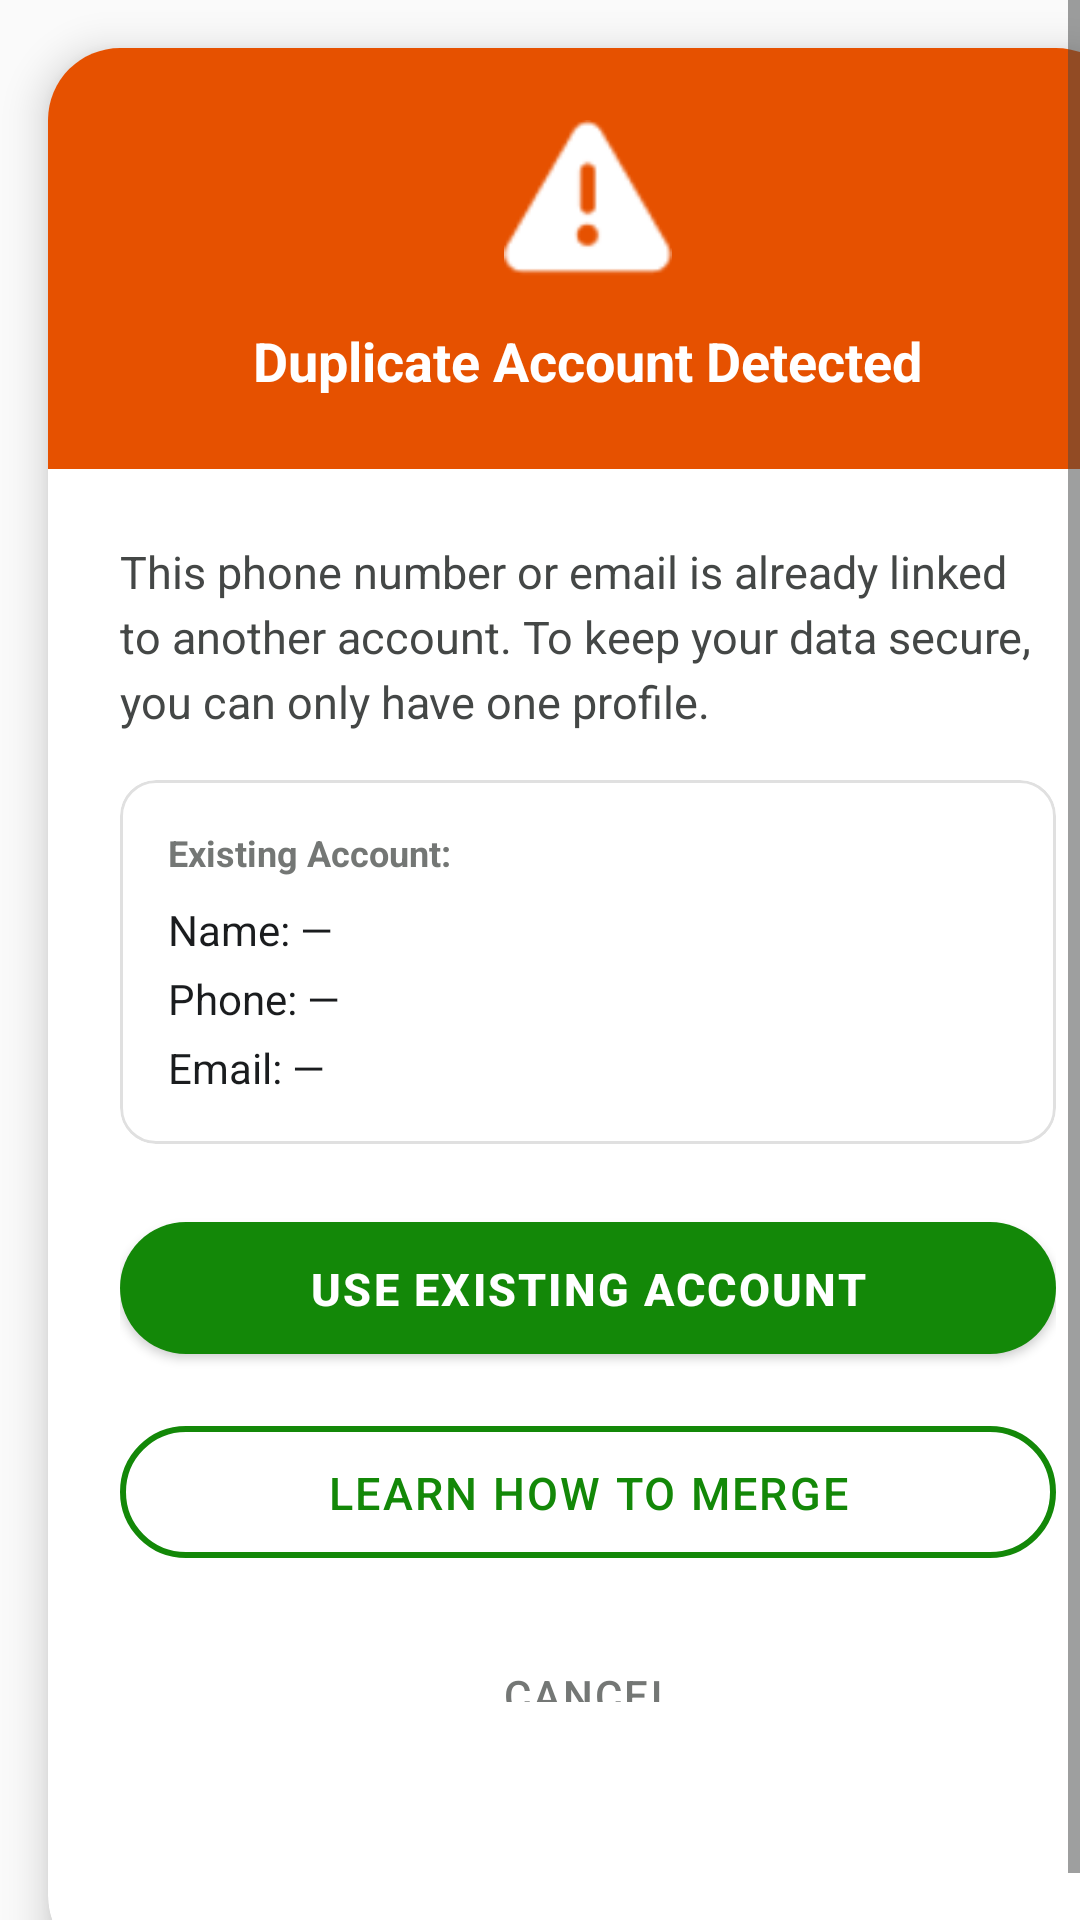

Screen size 1080 × 1920. Icon name, then its center in pixels as point (x, y):
Warning Icon: point (588, 196)
